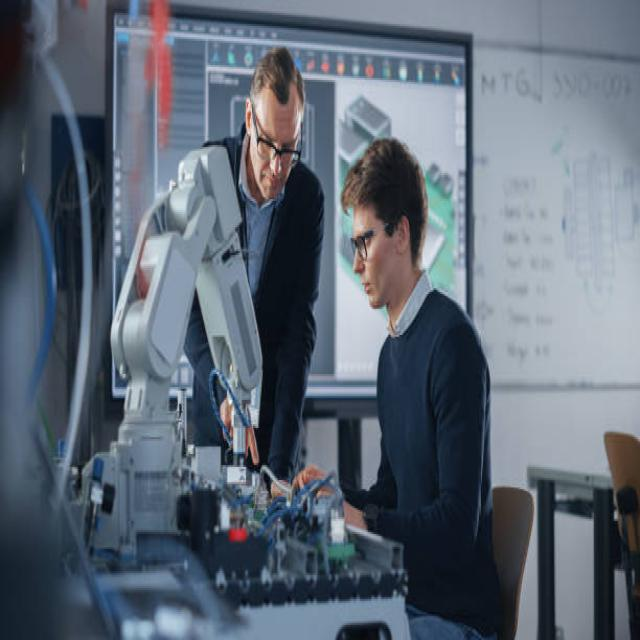Robotic-arm: (103, 139, 267, 537)
